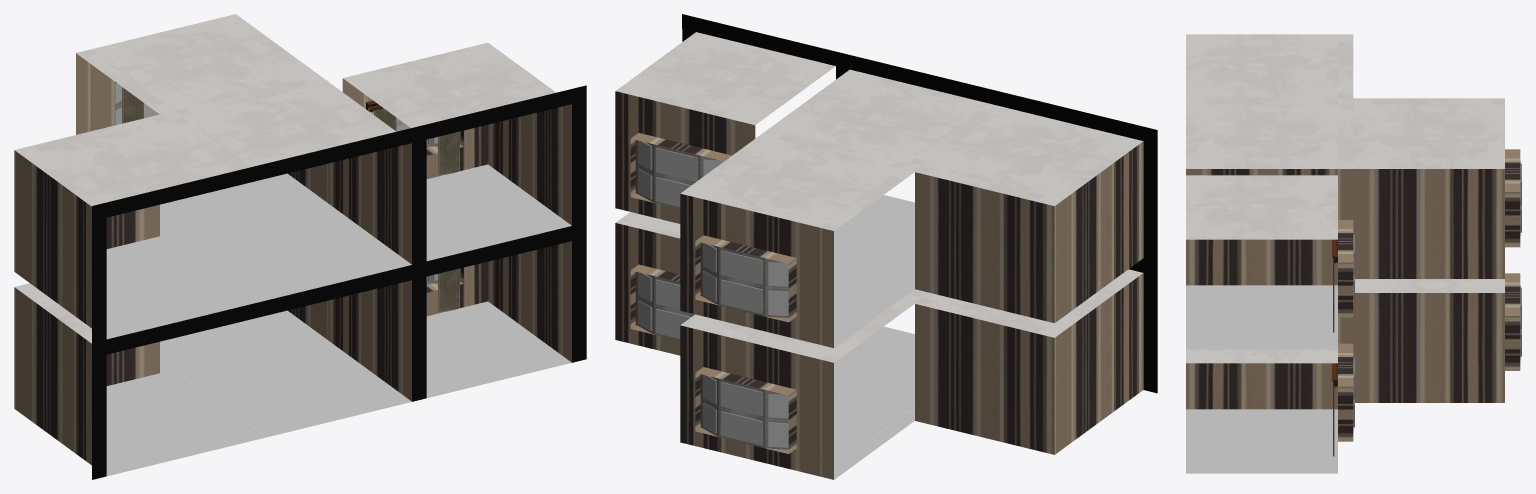
The model's file is Hotelrooms_left.fbx.
3 renders of one model, left to right at view 1: azimuth 30°, elevation 25°; view 2: azimuth 150°, elevation 25°; view 3: azimuth 270°, elevation 25°, orthographic. The views are drawn at different scales.
Parts seen in each view (by area): view 1: Ceiling_hotelroom.011, Floor_hotelroom.007, Floor_hotelroom.015, Ceiling_hotelroom.010, Ceiling_hotelroom.012, Ceiling_hotelroom.013, Floor_hotelroom.006, Floor_hotelroom.014, Floor_hotelroom.017, Floor_hotelroom.009, Wall_Hotelroom.007, Wall_Hotelroom.023 (+35 smaller); view 2: Wall_Window_hotelroom.002, Wall_Window_hotelroom.004, Wall_Hotelroom.006, Wall_Hotelroom.022, Wall_Window_hotelroom.007, Ceiling_hotelroom.012, Ceiling_hotelroom.011, Ceiling_hotelroom.013, Ceiling_hotelroom.010, Wall_Hotelroom.007, Wall_Hotelroom.023, Wall_Window_hotelroom.006 (+26 smaller); view 3: Wall_Hotelroom.025, Wall_Hotelroom.009, Ceiling_hotelroom.010, Ceiling_hotelroom.011, Ceiling_hotelroom.012, Ceiling_hotelroom.013, Floor_hotelroom.009, Floor_hotelroom.017, Wall_Hotelroom.011, Wall_Hotelroom.027, Ceiling_hotelroom.005, Ceiling_hotelroom.003 (+11 smaller).
Boxes of the visible parts, x1,y1,x2,y2 form: Ceiling_hotelroom.011: (90, 14, 319, 110); Floor_hotelroom.007: (183, 340, 411, 437); Floor_hotelroom.015: (183, 203, 411, 300); Ceiling_hotelroom.010: (23, 121, 236, 206); Ceiling_hotelroom.012: (183, 81, 395, 166); Ceiling_hotelroom.013: (343, 42, 555, 127); Floor_hotelroom.006: (106, 379, 251, 476); Floor_hotelroom.014: (106, 242, 251, 339); Floor_hotelroom.017: (426, 164, 571, 260); Floor_hotelroom.009: (426, 301, 571, 397); Wall_Hotelroom.007: (22, 293, 91, 465); Wall_Hotelroom.023: (22, 156, 91, 328); Wall_Window_hotelroom.002: (680, 325, 819, 476); Wall_Window_hotelroom.004: (680, 193, 819, 344); Wall_Hotelroom.006: (915, 304, 1054, 454); Wall_Hotelroom.022: (915, 172, 1054, 322); Wall_Window_hotelroom.007: (615, 91, 755, 223); Ceiling_hotelroom.012: (769, 69, 988, 162); Ceiling_hotelroom.011: (680, 134, 900, 227); Ceiling_hotelroom.013: (615, 32, 835, 124); Ceiling_hotelroom.010: (923, 107, 1142, 200); Wall_Hotelroom.007: (1062, 273, 1143, 448); Wall_Hotelroom.023: (1062, 141, 1143, 316); Wall_Window_hotelroom.006: (615, 223, 694, 355); Wall_Hotelroom.025: (1353, 169, 1504, 278); Wall_Hotelroom.009: (1353, 293, 1504, 402); Ceiling_hotelroom.010: (1186, 34, 1337, 98); Ceiling_hotelroom.011: (1353, 104, 1504, 168); Ceiling_hotelroom.012: (1186, 104, 1337, 168); Ceiling_hotelroom.013: (1186, 175, 1337, 239); Floor_hotelroom.009: (1186, 409, 1337, 473); Floor_hotelroom.017: (1186, 285, 1337, 349); Wall_Hotelroom.011: (1186, 363, 1337, 409); Wall_Hotelroom.027: (1186, 239, 1337, 285); Ceiling_hotelroom.005: (1186, 349, 1337, 363); Ceiling_hotelroom.003: (1355, 279, 1504, 292).
Size of the model in its own units: 1700 by 900 by 1106.
